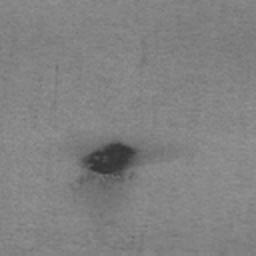Iron sheet ash: (85, 142, 136, 174)
